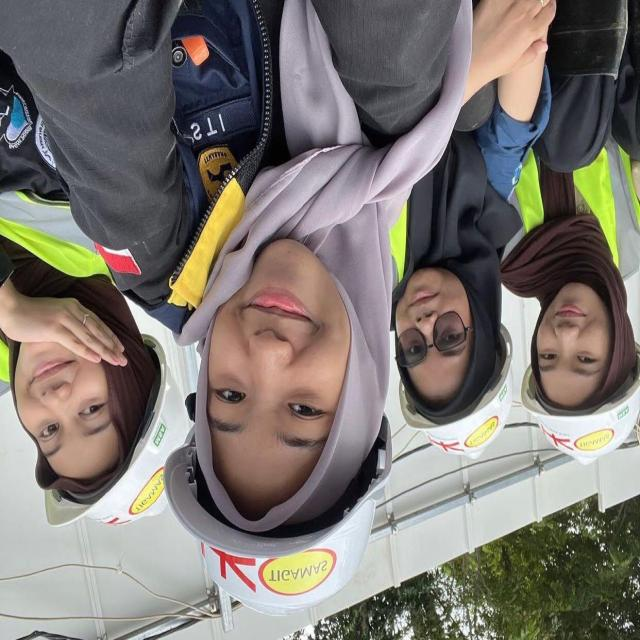safetyhelmet: (171, 245, 390, 604), (33, 303, 173, 571), (395, 248, 518, 486), (529, 266, 640, 474)
